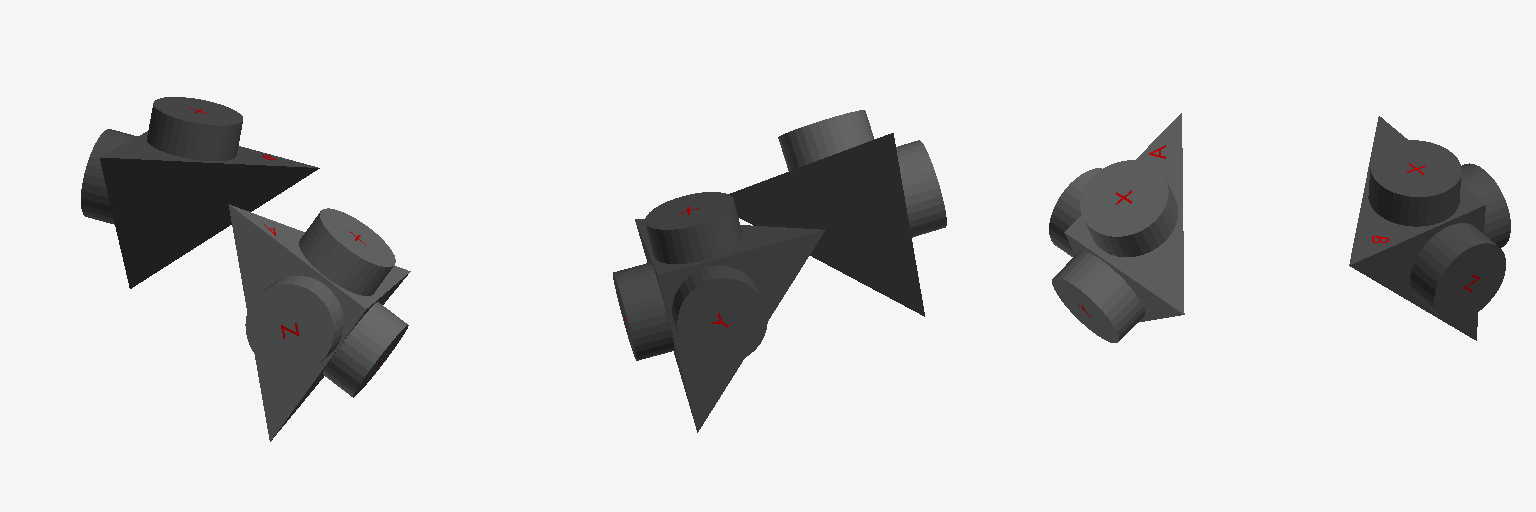
Rendered from tuoluo.obj.
3 views of the same model, side by side, from view 1: azimuth 30°, elevation 25°; view 2: azimuth 150°, elevation 25°; view 3: azimuth 270°, elevation 25° (orthographic).
Parts seen in each view (by area): view 1: B_柱体.008, A_柱体.012, Az_柱体.014, Ax_柱体.013, Bx_柱体.011, Ay_柱体.004, By_柱体.007; view 2: A_柱体.012, B_柱体.008, By_柱体.007, Bx_柱体.011, Bz_柱体.010, Ax_柱体.013, Az_柱体.014; view 3: Ax_柱体.013, A_柱体.012, B_柱体.008, Bz_柱体.010, Bx_柱体.011, Ay_柱体.004, By_柱体.007, Az_柱体.014.
Part boxes in pixels (x1,y1,x2,y2): B_柱体.008: (99,131,319,288); A_柱体.012: (229,204,410,441); Az_柱体.014: (245,276,343,372); Ax_柱体.013: (299,208,395,295); Bx_柱体.011: (147,97,242,160); Ay_柱体.004: (323,302,408,397); By_柱体.007: (81,129,137,224); A_柱体.012: (729,133,924,316); B_柱体.008: (635,219,824,432); By_柱体.007: (672,266,767,364); Bx_柱体.011: (645,192,742,263); Bz_柱体.010: (613,262,674,360); Ax_柱体.013: (778,110,874,170); Az_柱体.014: (896,140,946,237); Ax_柱体.013: (1080,160,1177,256); A_柱体.012: (1064,113,1184,322); B_柱体.008: (1349,116,1485,340); Bz_柱体.010: (1410,223,1505,321); Bx_柱体.011: (1368,140,1461,226); Ay_柱体.004: (1052,251,1144,342); By_柱体.007: (1461,163,1510,247); Az_柱体.014: (1049,168,1101,256).
Bounding box in the file's own units: 1.42 × 1.35 × 2.66.